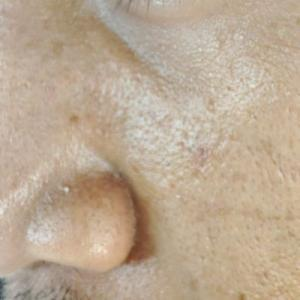Oily-Skin: (0, 0, 220, 243)
